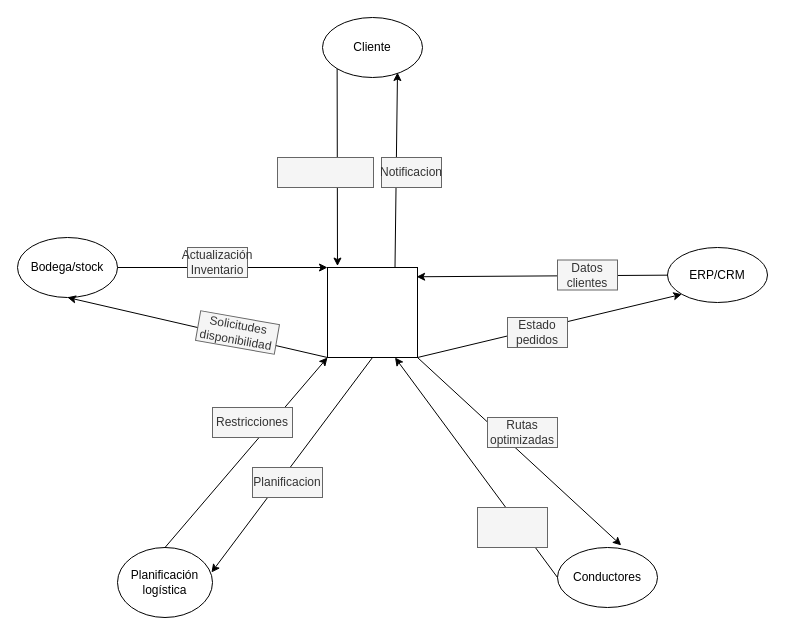
This 785x635 diagram has some shape labels left out. Here are the shapes that lost their labels. From the top down, the box of each, then its label:
(276, 156, 374, 188): Consulta/Pedido
(326, 266, 418, 358): Sistema de optimizacion de ultima milla con big data
(476, 506, 548, 548): GPS tiempo real
